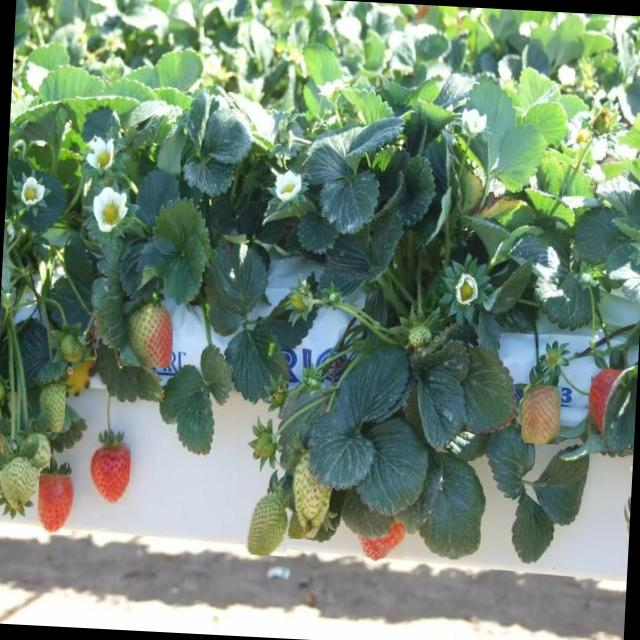ripe: (588, 369, 632, 437), (586, 366, 630, 433), (86, 442, 132, 506), (35, 474, 76, 536), (362, 514, 406, 560)
unripe: (284, 448, 333, 541), (120, 296, 176, 368), (246, 486, 290, 556), (521, 384, 562, 444), (0, 460, 40, 516), (294, 455, 328, 517), (34, 383, 66, 432), (60, 322, 86, 362), (27, 430, 52, 468)
